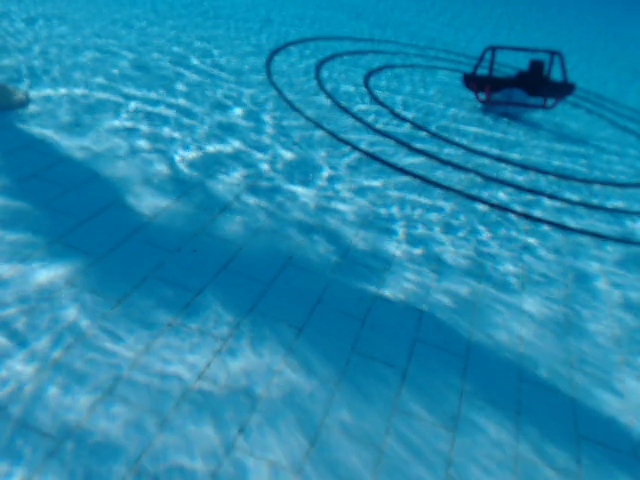submarine: (464, 43, 577, 115)
